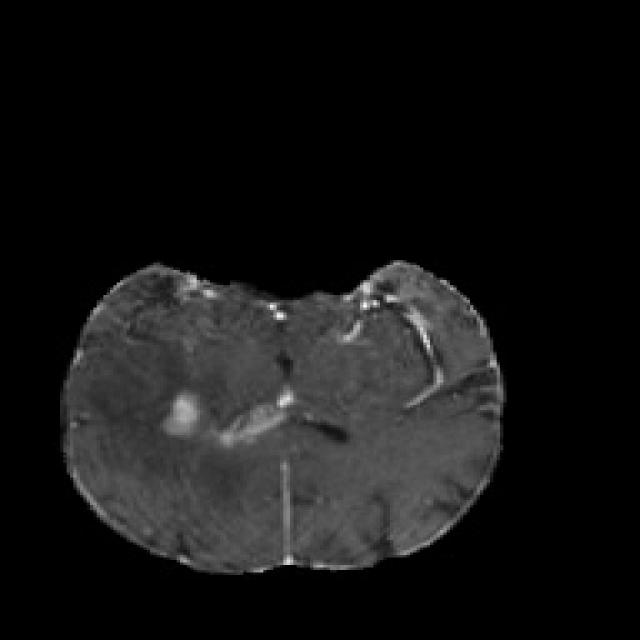positive: (153, 386, 207, 442)
